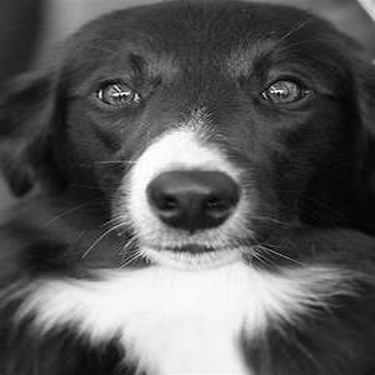dog: (3, 6, 369, 371)
